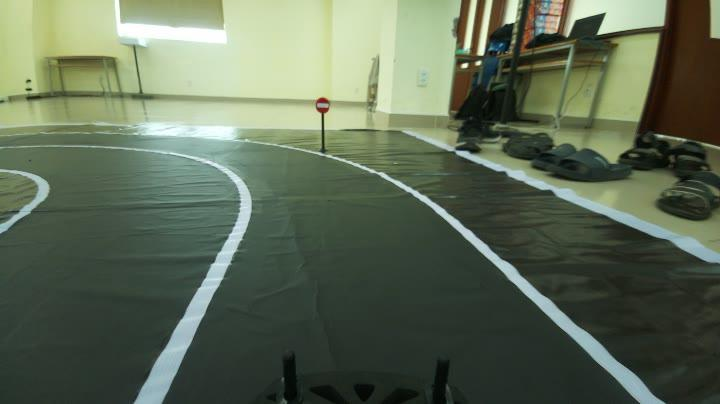no_entry: (308, 93, 334, 116)
